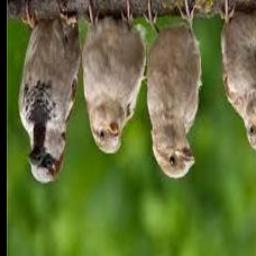Sparrow: (18, 3, 81, 185), (144, 0, 201, 179), (82, 4, 146, 155), (219, 0, 256, 152)
